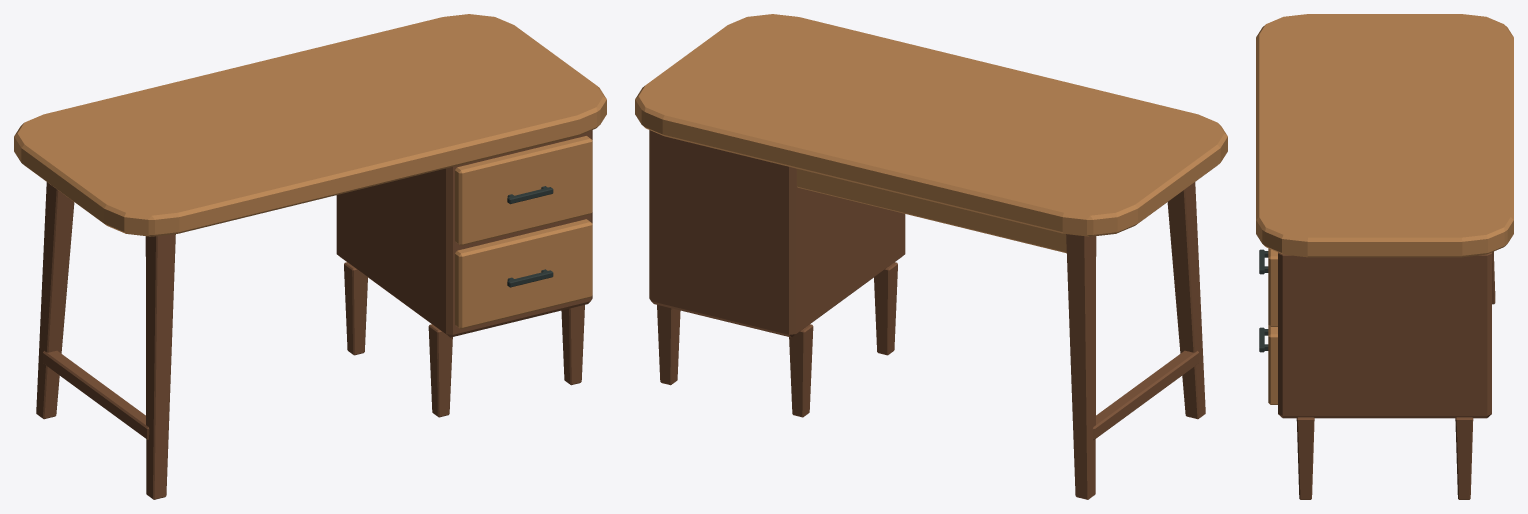
The model's file is 10_desk.glb.
3 renders of one model, left to right at view 1: azimuth 30°, elevation 25°; view 2: azimuth 150°, elevation 25°; view 3: azimuth 270°, elevation 25°, orthographic. The views are drawn at different scales.
Visible parts, largest first — view 1: Slim_worktop, Drawer_pedestal, Inset_desk_drawer, Inset_desk_drawer.001, Open_frame_leg, Open_frame_leg.001, Open_frame_footrest, Pedestal_foot, Pedestal_foot.001, Pedestal_foot.002; view 2: Slim_worktop, Drawer_pedestal, Open_frame_leg.001, Open_frame_leg, Rear_apron, Open_frame_footrest, Pedestal_foot.001, Pedestal_foot, Pedestal_foot.003; view 3: Slim_worktop, Drawer_pedestal, Pedestal_foot.002, Pedestal_foot.003, Inset_desk_drawer, Inset_desk_drawer.001.
Boxes of the visible parts, left/top/right/bottom form: Slim_worktop: left=14, top=14, right=606, bottom=236; Drawer_pedestal: left=336, top=130, right=592, bottom=337; Inset_desk_drawer: left=455, top=219, right=592, bottom=328; Inset_desk_drawer.001: left=455, top=136, right=592, bottom=245; Open_frame_leg: left=145, top=234, right=175, bottom=499; Open_frame_leg.001: left=36, top=182, right=74, bottom=419; Open_frame_footrest: left=42, top=350, right=149, bottom=439; Pedestal_foot: left=428, top=324, right=452, bottom=417; Pedestal_foot.001: left=344, top=262, right=367, bottom=355; Pedestal_foot.002: left=561, top=305, right=584, bottom=385; Slim_worktop: left=635, top=14, right=1227, bottom=236; Drawer_pedestal: left=649, top=130, right=905, bottom=337; Open_frame_leg.001: left=1066, top=234, right=1096, bottom=499; Open_frame_leg: left=1167, top=182, right=1205, bottom=419; Rear_apron: left=796, top=169, right=1066, bottom=253; Open_frame_footrest: left=1092, top=350, right=1199, bottom=439; Pedestal_foot.001: left=789, top=324, right=813, bottom=417; Pedestal_foot: left=874, top=262, right=897, bottom=355; Pedestal_foot.003: left=657, top=305, right=680, bottom=385; Slim_worktop: left=1256, top=14, right=1513, bottom=257; Drawer_pedestal: left=1278, top=252, right=1491, bottom=418; Pedestal_foot.002: left=1296, top=417, right=1314, bottom=499; Pedestal_foot.003: left=1455, top=417, right=1473, bottom=499; Inset_desk_drawer: left=1268, top=325, right=1277, bottom=404; Inset_desk_drawer.001: left=1268, top=248, right=1277, bottom=326.
Size of the model in its own units: 1.35 by 0.755 by 0.65.
